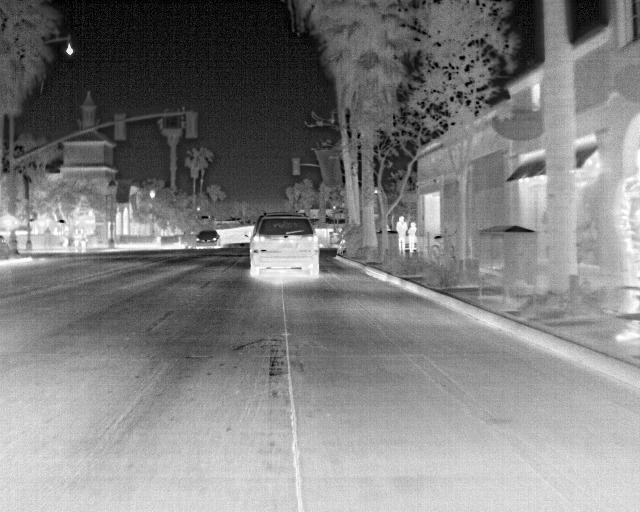bicycle: (249, 210, 325, 277), (192, 228, 221, 249)
empty: (405, 219, 419, 258), (395, 213, 408, 255)
